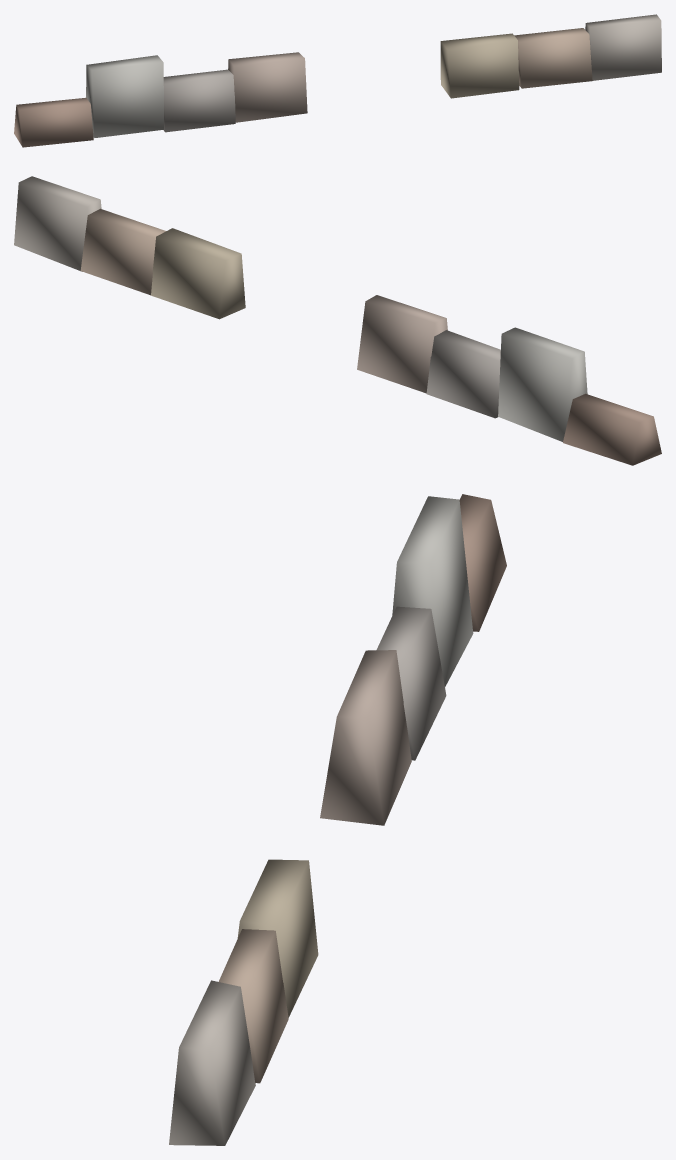
File: farm_22_39_far.glb
The picture shows the model from 3 angles, top to bottom: view 1: azimuth 30°, elevation 25°; view 2: azimuth 150°, elevation 25°; view 3: azimuth 270°, elevation 25°; orthographic projection. The views are drawn at different scales.
Visible parts, largest first — view 1: geometry_0; view 2: geometry_0; view 3: geometry_0.
Part boxes in pixels (bbox=[...]): geometry_0: bbox=[14, 14, 661, 147]; geometry_0: bbox=[14, 176, 661, 465]; geometry_0: bbox=[169, 494, 506, 1145].
Size of the model in its own units: 13.84 by 1.79 by 3.52.
